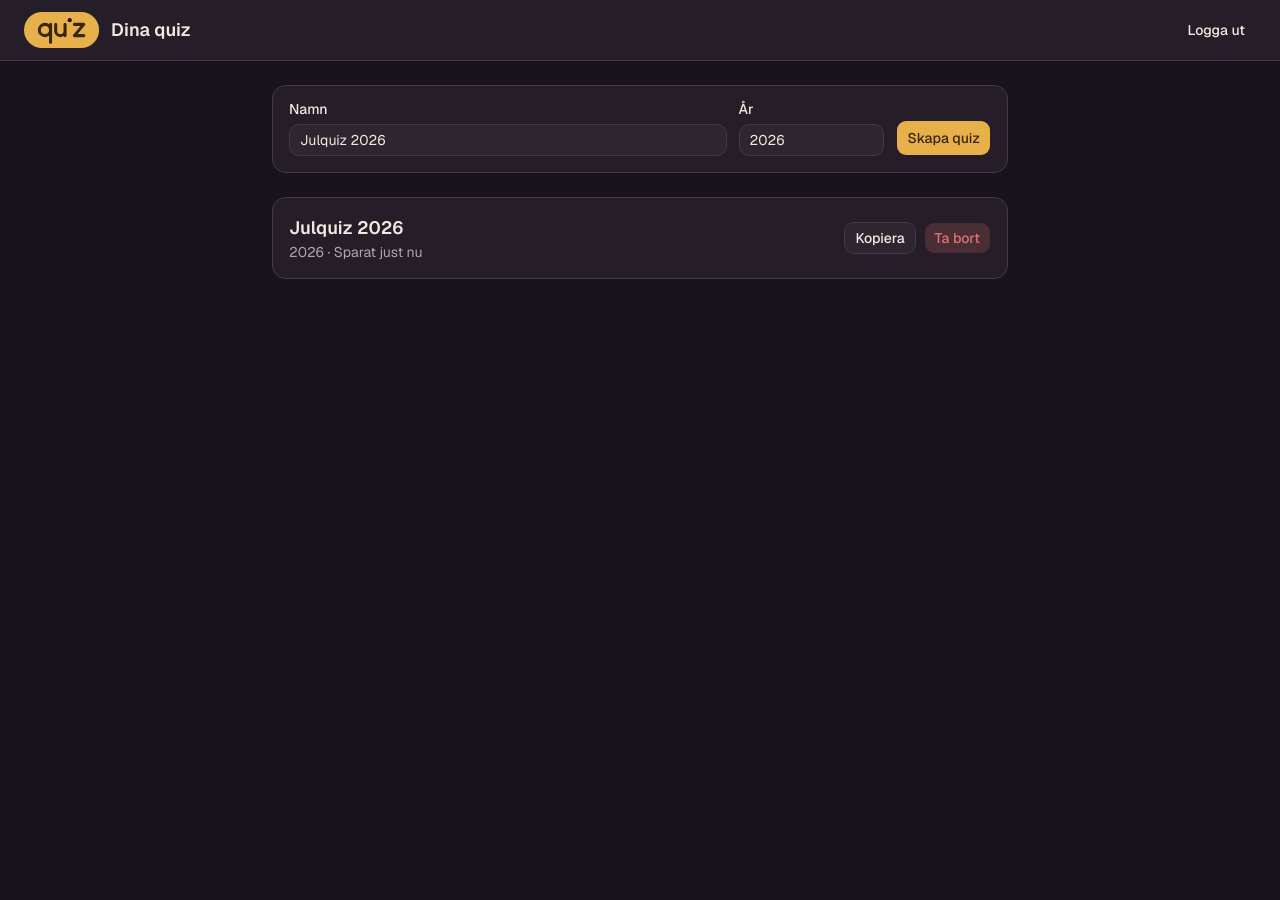
Scenario: QuizList › tells the host when copying fails
Click the button "Kopiera" at [880, 238], box [844,222,916,254]
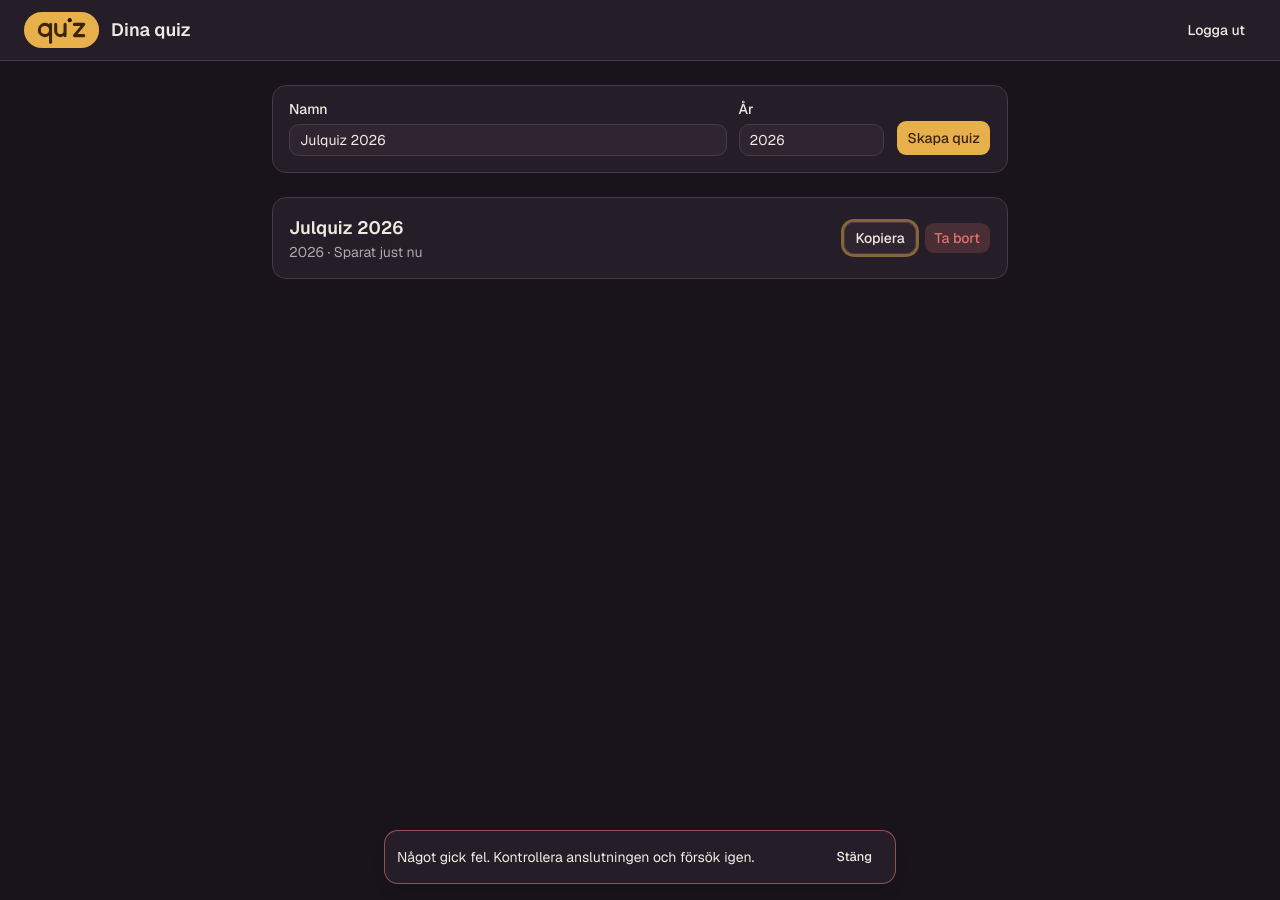
Now the message shows "Något gick fel", box [397,848,754,866]
